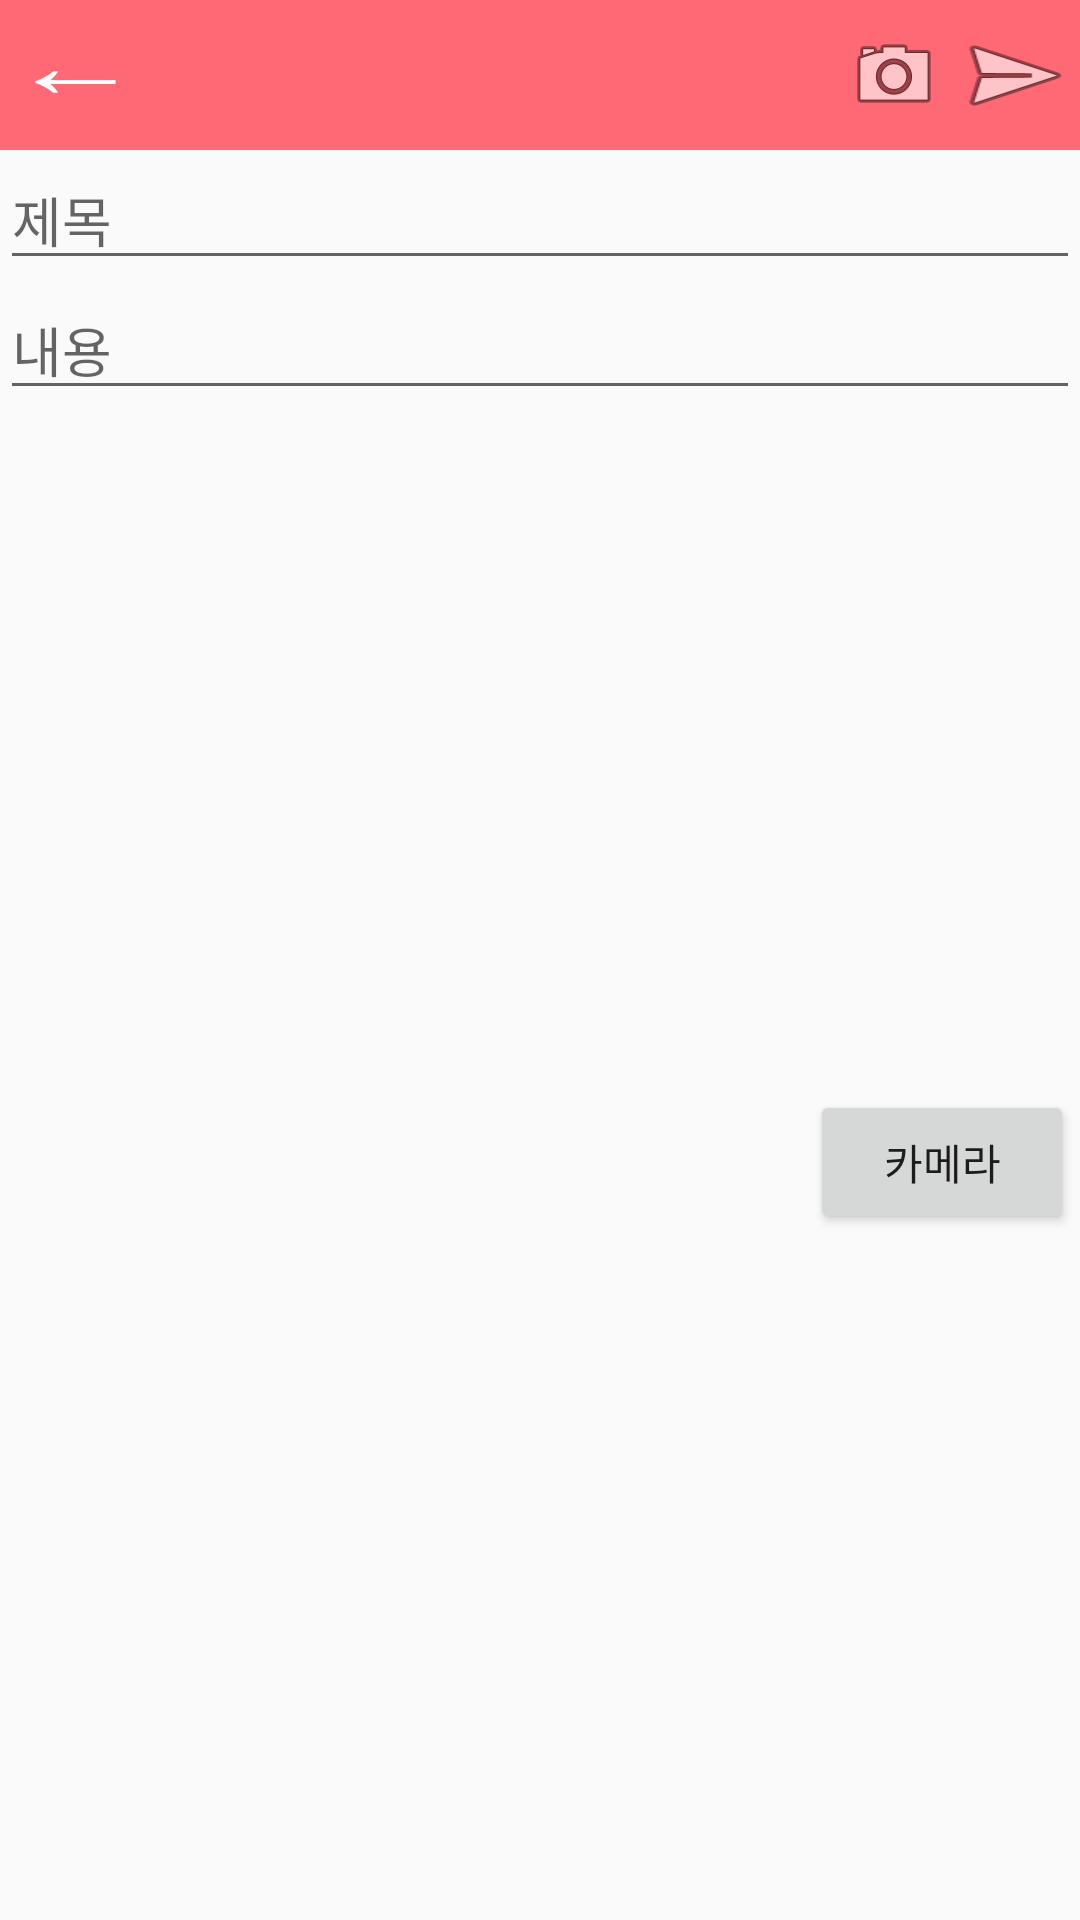

Named icons in this screenshot (1080w x 1920h) and their bounding boxes, bbox=(x1, y1, x2, y2):
camera: bbox=(857, 44, 931, 103)
